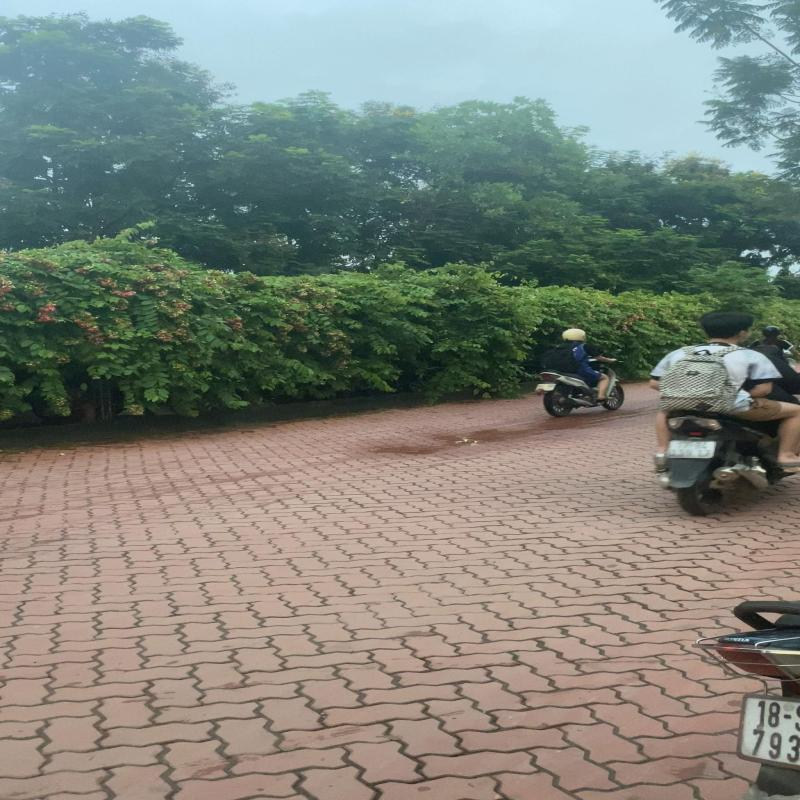licenseplate: (668, 440, 717, 458)
motorcyclist: (646, 308, 800, 518)
nohelmet: (701, 310, 755, 342)
